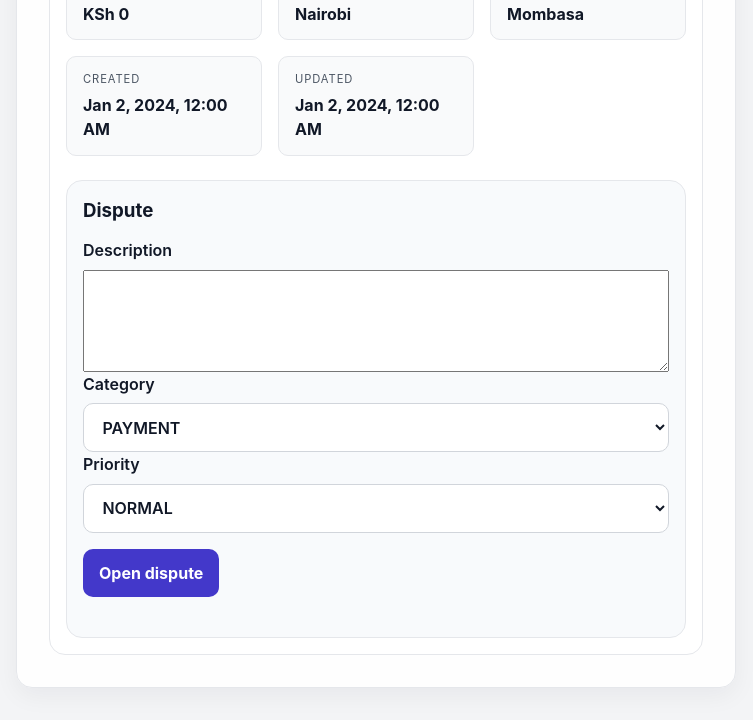
Test case: customer foundation workflow › shows a validation error when dispute description is blank
This screenshot has width=753, height=720.
(page scrolled)
Click the button "Open dispute" at (151, 573), box [83, 549, 219, 597]
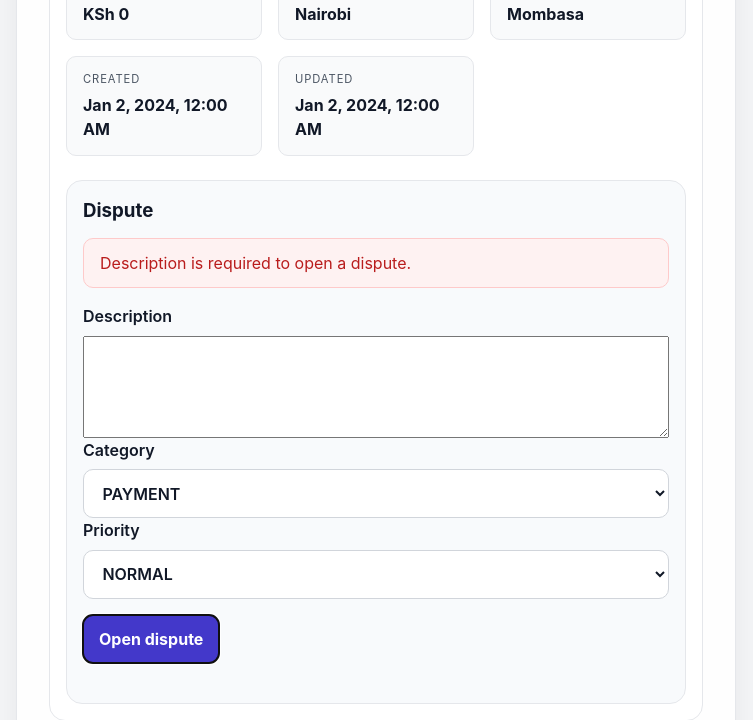
Now the text "Description is required to open a dispute." is shown, box [83, 238, 669, 288]
